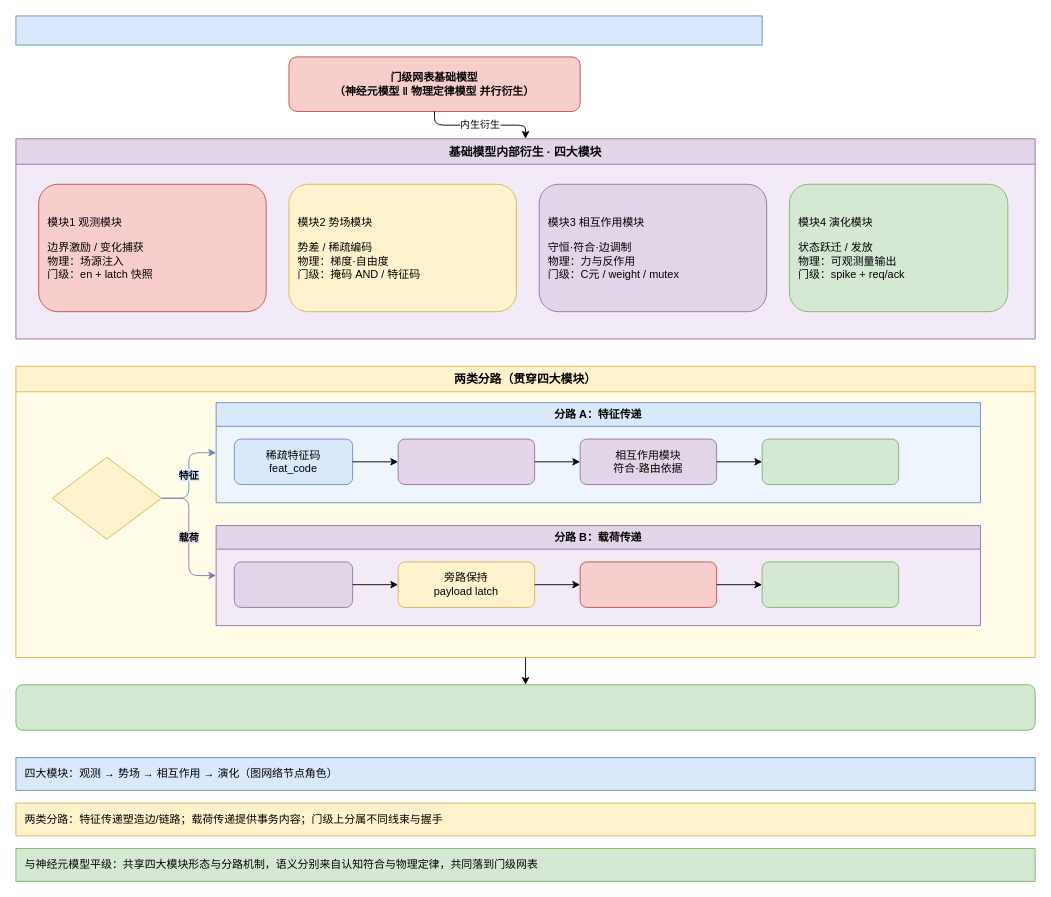
The diagram is 1051 pixels wide and 897 high, and some of its shapes have lost their labels. Each missing label, with the centre of its shape:
"决定输出事务链路" goes at [830,461].
"势场模块 分叉点" goes at [106,497].
"原始 data payload" goes at [293,584].
"沿选中边随事务发出" goes at [830,584].
"演化模块汇合：链路依据 <- 特征分路；事务载荷 <- 载荷分路" goes at [525,707].
"物理定律基础模型：内生四大模块 + 两类分路（载荷 / 特征）" goes at [388,30].
"等待链路选定 不参与符合" goes at [648,584].
"调制边结构 加强/削弱/选通" goes at [466,461].
